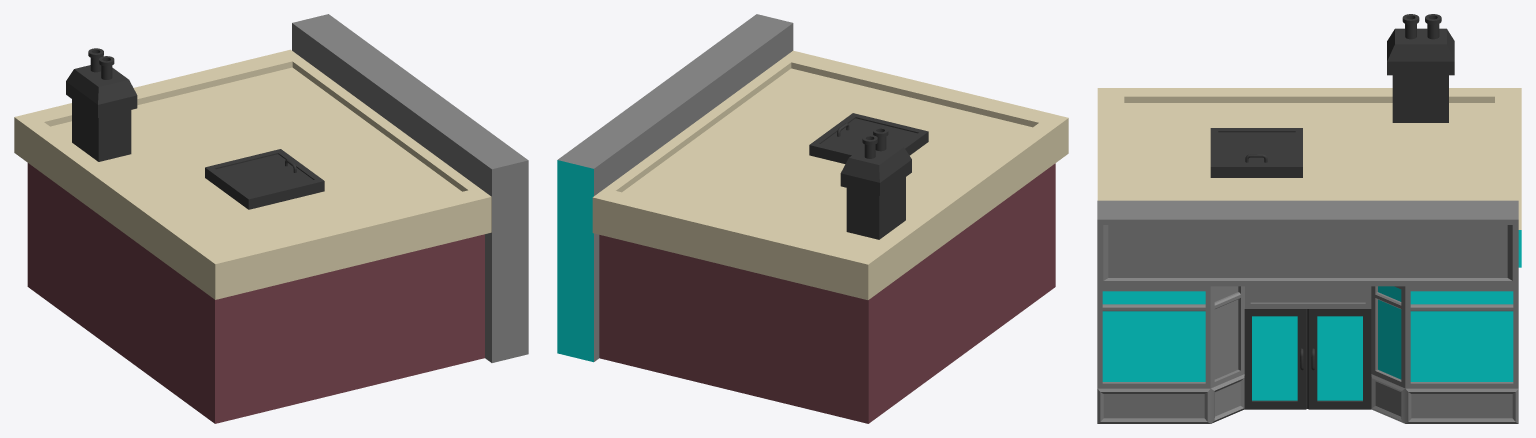
File: building_01.fbx
3 views of the same model, side by side, from view 1: azimuth 30°, elevation 25°; view 2: azimuth 150°, elevation 25°; view 3: azimuth 270°, elevation 25° (orthographic). The views are drawn at different scales.
Visible parts, largest first — view 1: Cube.048; view 2: Cube.048; view 3: Cube.048.
Boxes of the visible parts, x1,y1,x2,y2 form: Cube.048: [14, 14, 528, 423]; Cube.048: [557, 14, 1068, 423]; Cube.048: [1097, 14, 1521, 423].
Size of the model in its own units: 1123 by 862 by 1244.
